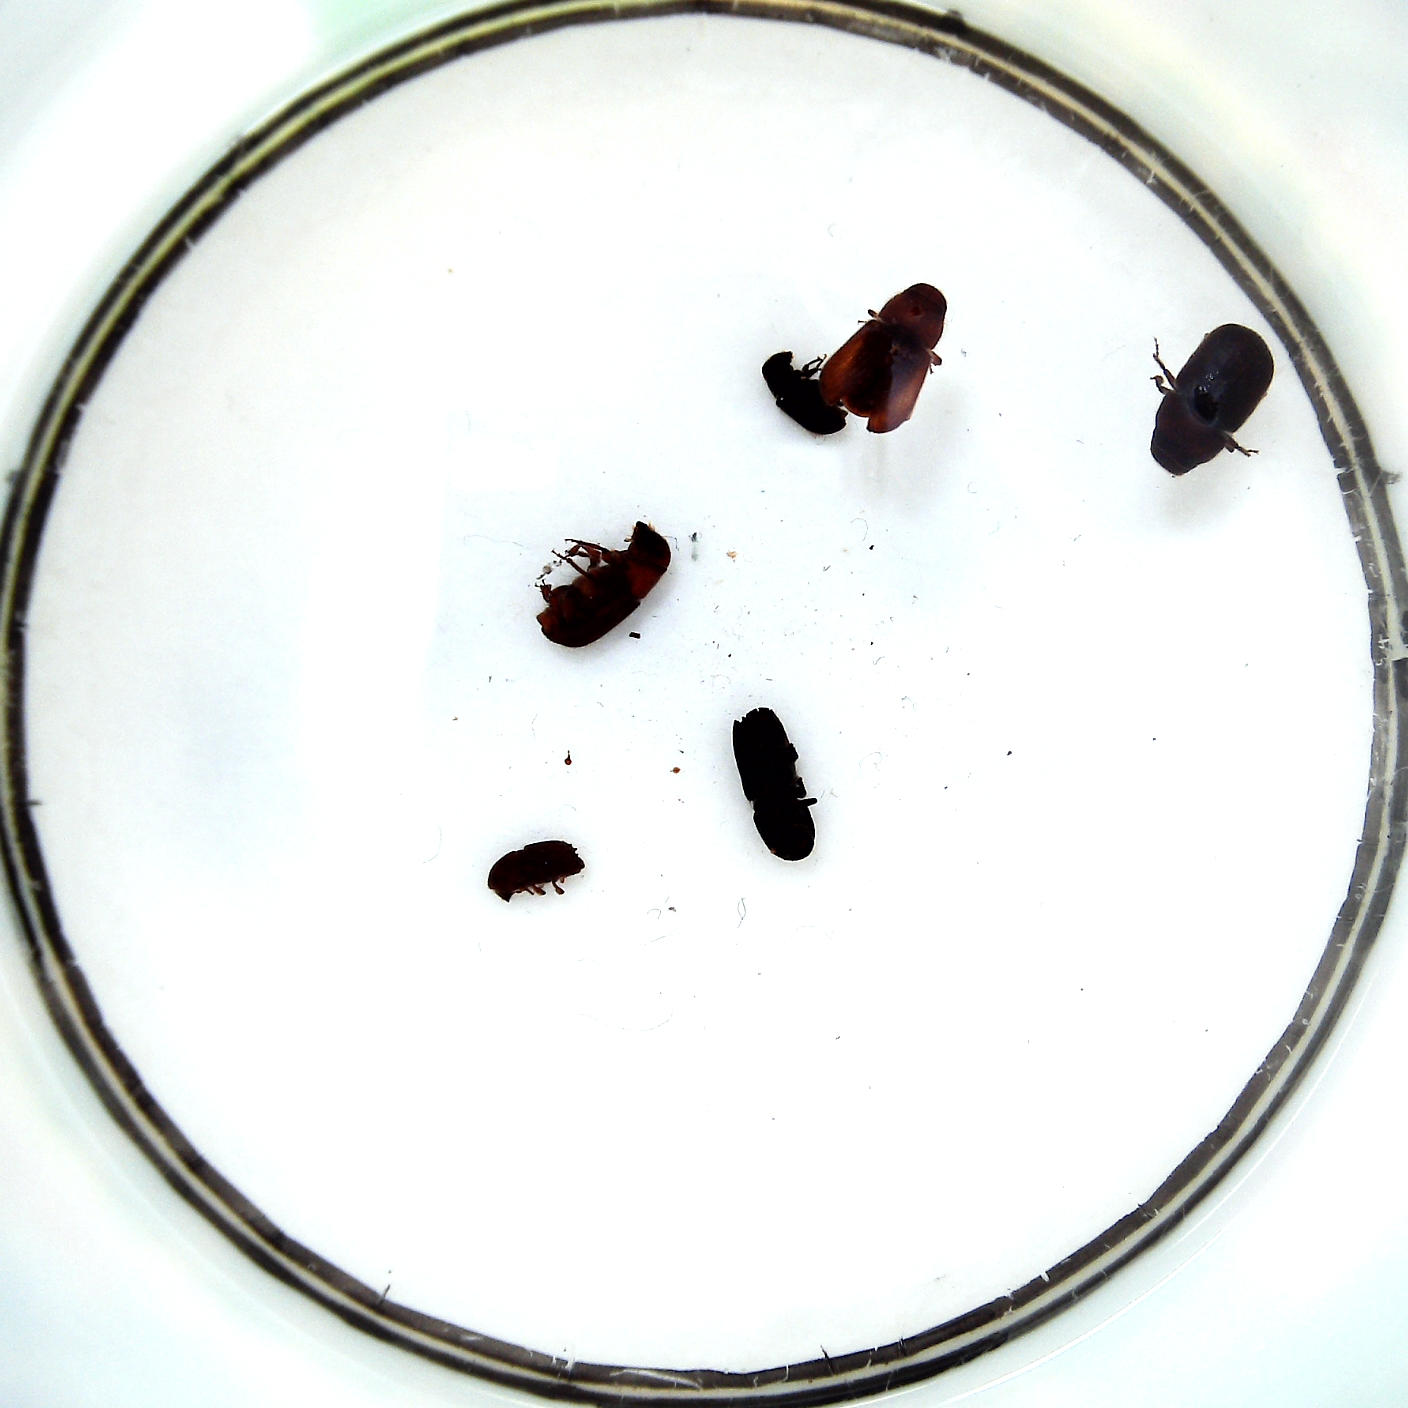Boerner: (732, 707, 816, 861)
Leconte: (819, 282, 949, 432), (1149, 325, 1273, 476), (536, 523, 670, 647)
armandi: (762, 352, 848, 435)
linnaeus: (487, 839, 585, 901)
